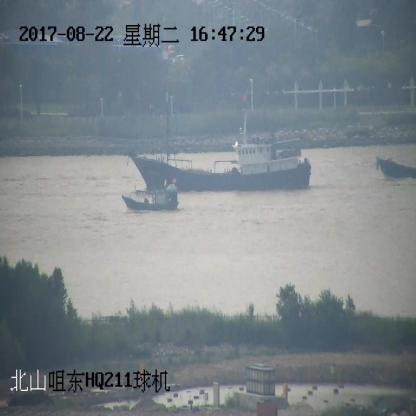Fishing Boat: (131, 94, 312, 192), (124, 179, 179, 207), (374, 154, 416, 180)
